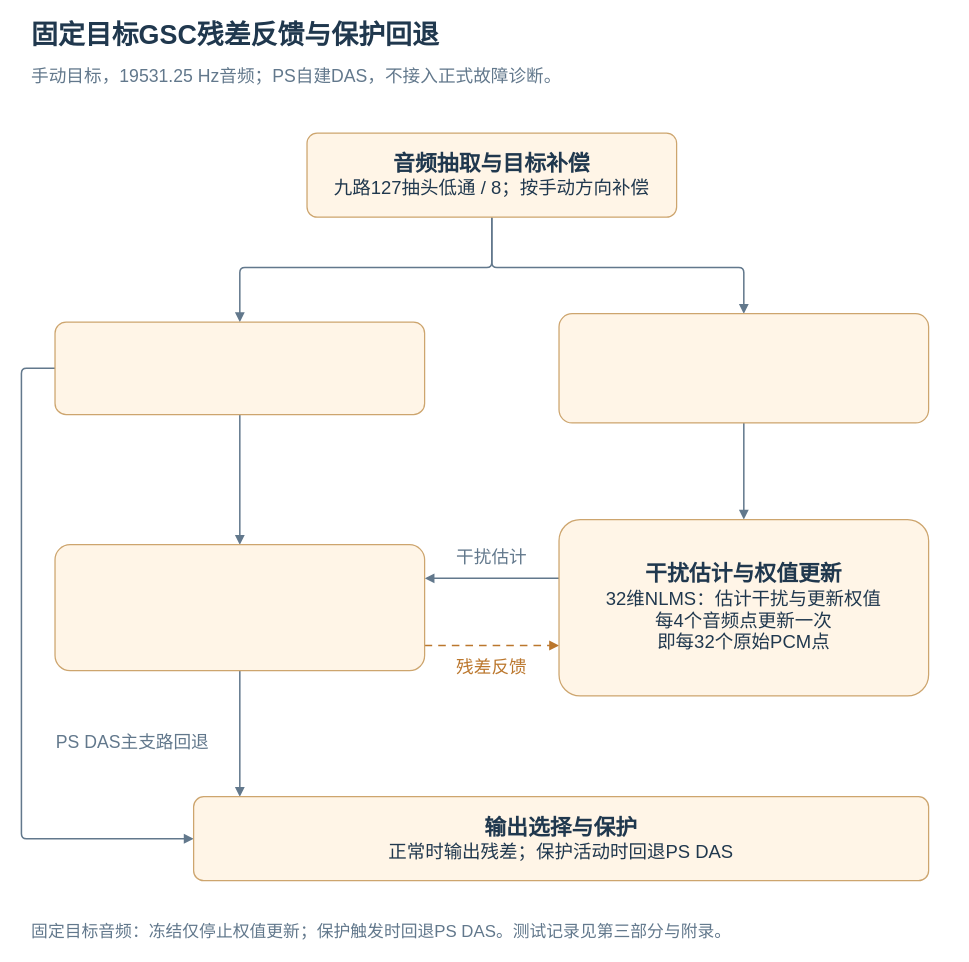
The diagram is 969 pixels wide and 962 high, and some of its shapes have lost their labels. Each missing label, with the centre of its shape:
PS等权DAS主支路 单位脉冲FIR；不作PL逐样匹配: the point at 239,368
八路阻塞参考 外围麦减中心麦 调理后形成32维参考: the point at 743,368
计算输出残差 主支路减去干扰估计 e = d − 干扰估计: the point at 239,607
